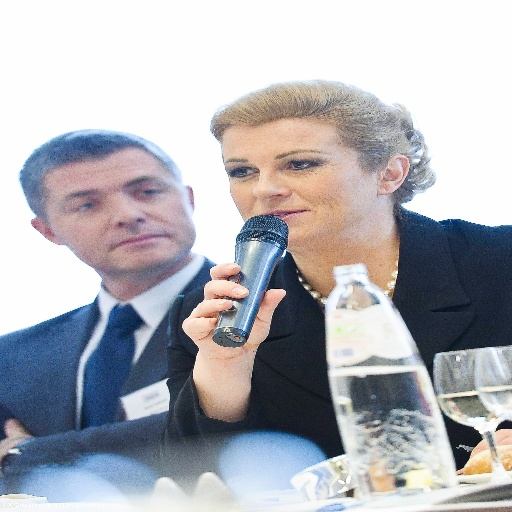hand: (194, 256, 320, 354), (465, 426, 511, 462), (0, 418, 38, 457)
